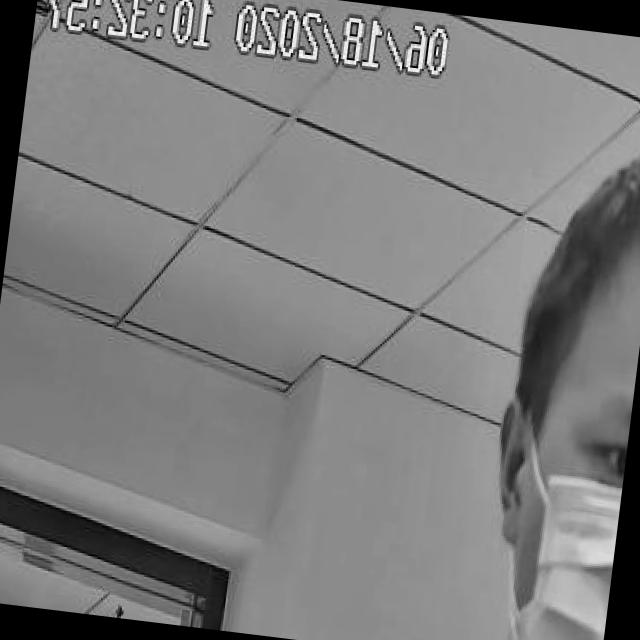Guns: (559, 223, 640, 640)
